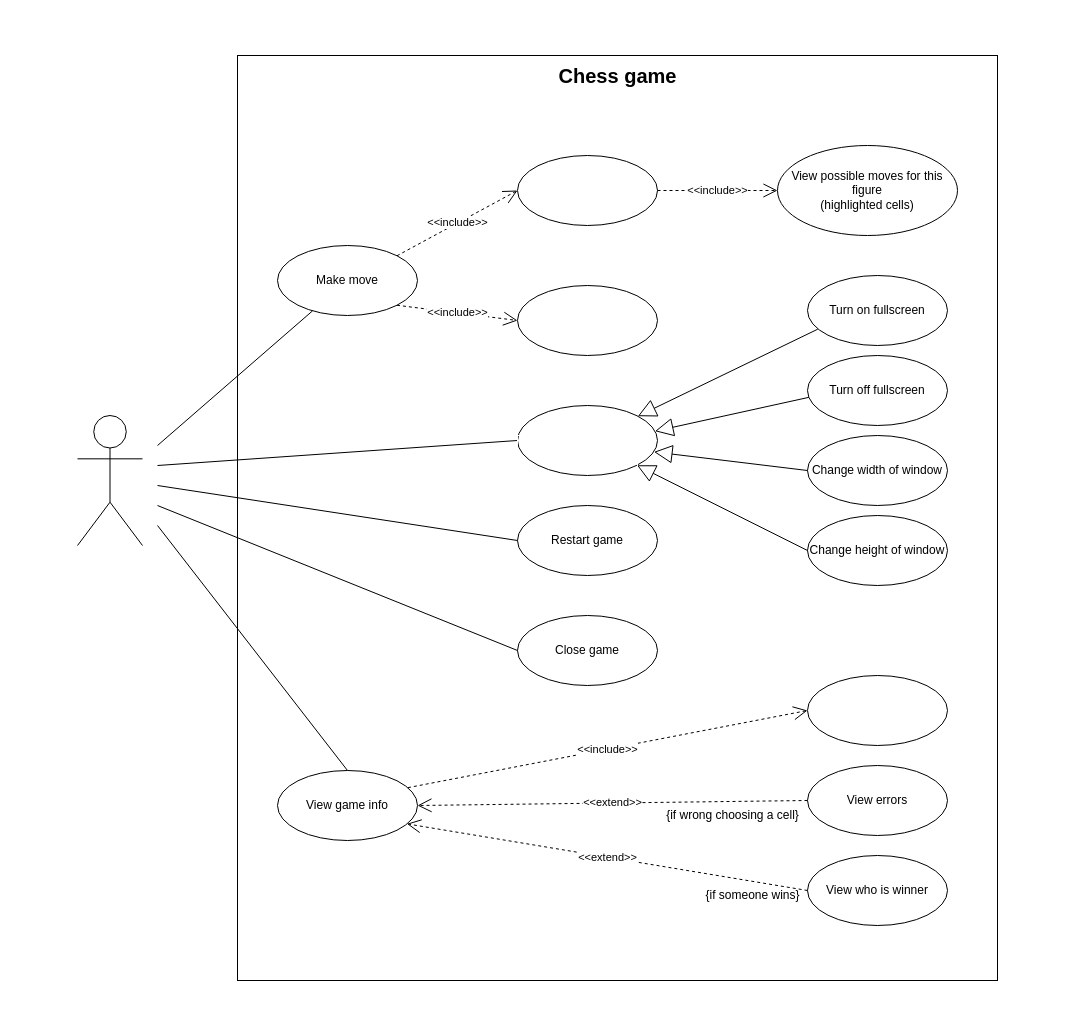
The diagram is 1085 pixels wide and 1035 high, and some of its shapes have lost their labels. Each missing label, with the box of its shape:
Chose destination: (516, 284, 658, 356)
Chose figure to move: (516, 154, 658, 226)
Player: (76, 414, 142, 546)
Resize the window: (516, 404, 658, 476)
View current situation on chess board: (806, 674, 948, 746)
